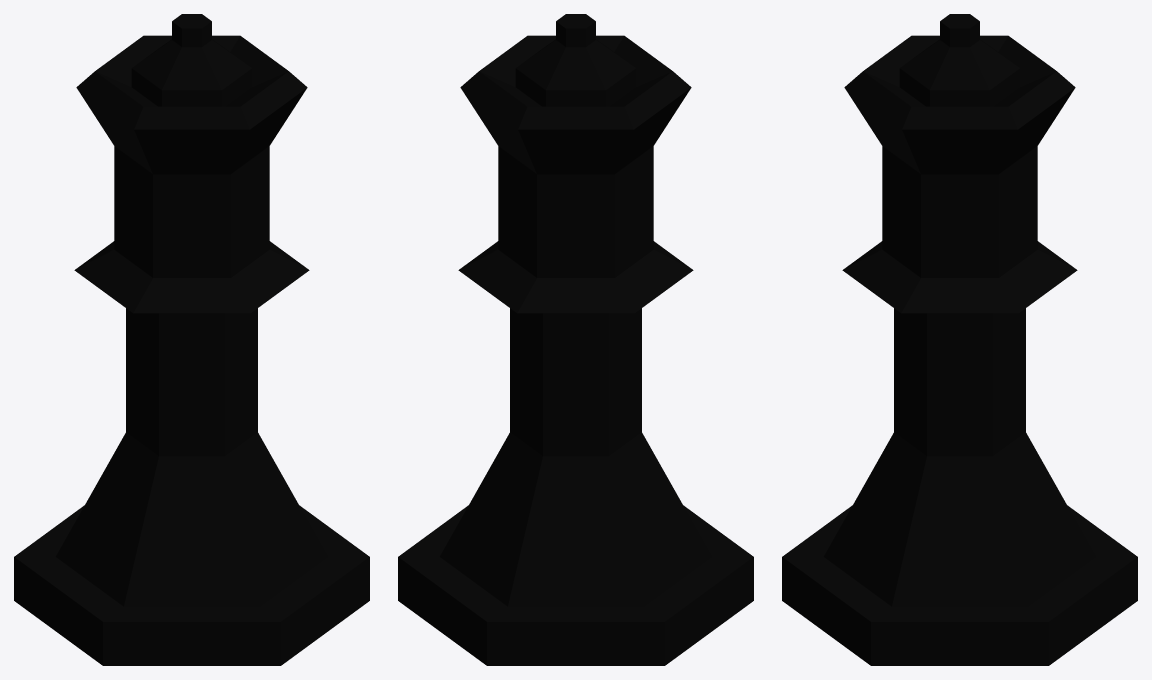
File: chesspiecequeen02.obj
3 views of the same model, side by side, from view 1: azimuth 30°, elevation 25°; view 2: azimuth 150°, elevation 25°; view 3: azimuth 270°, elevation 25° (orthographic).
Visible parts, largest first — view 1: Cylinder.001_Cylinder.005; view 2: Cylinder.001_Cylinder.005; view 3: Cylinder.001_Cylinder.005.
Part boxes in pixels (box(x1,y1,x2,y2)): Cylinder.001_Cylinder.005: box(14, 14, 369, 665); Cylinder.001_Cylinder.005: box(398, 14, 753, 665); Cylinder.001_Cylinder.005: box(782, 14, 1137, 665).
Bounding box in the file's own units: 0.0225 × 0.0467 × 0.026.
